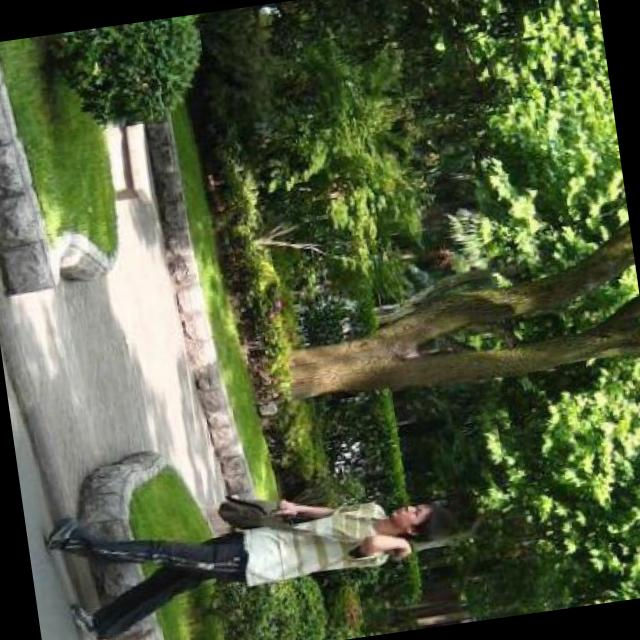Person: (36, 457, 465, 640)
